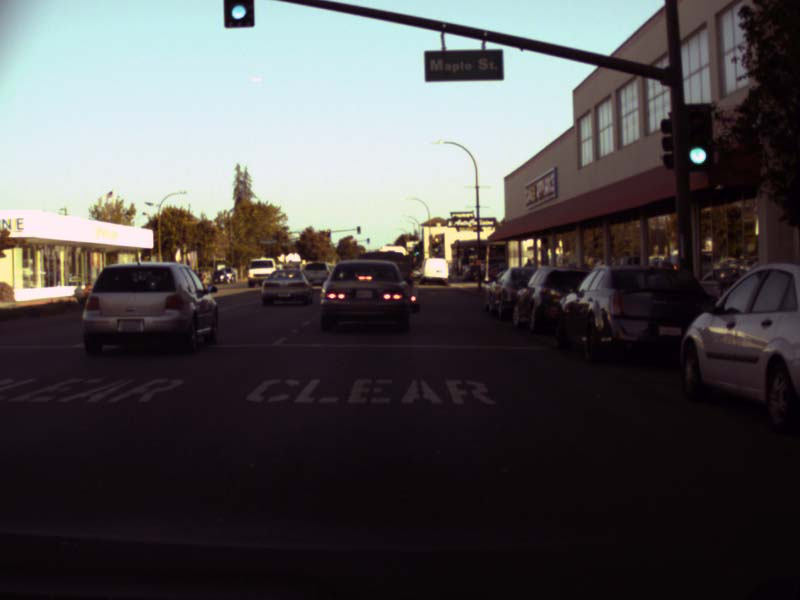Green: (686, 108, 709, 168), (412, 250, 419, 256)
Red: (326, 229, 329, 236)
